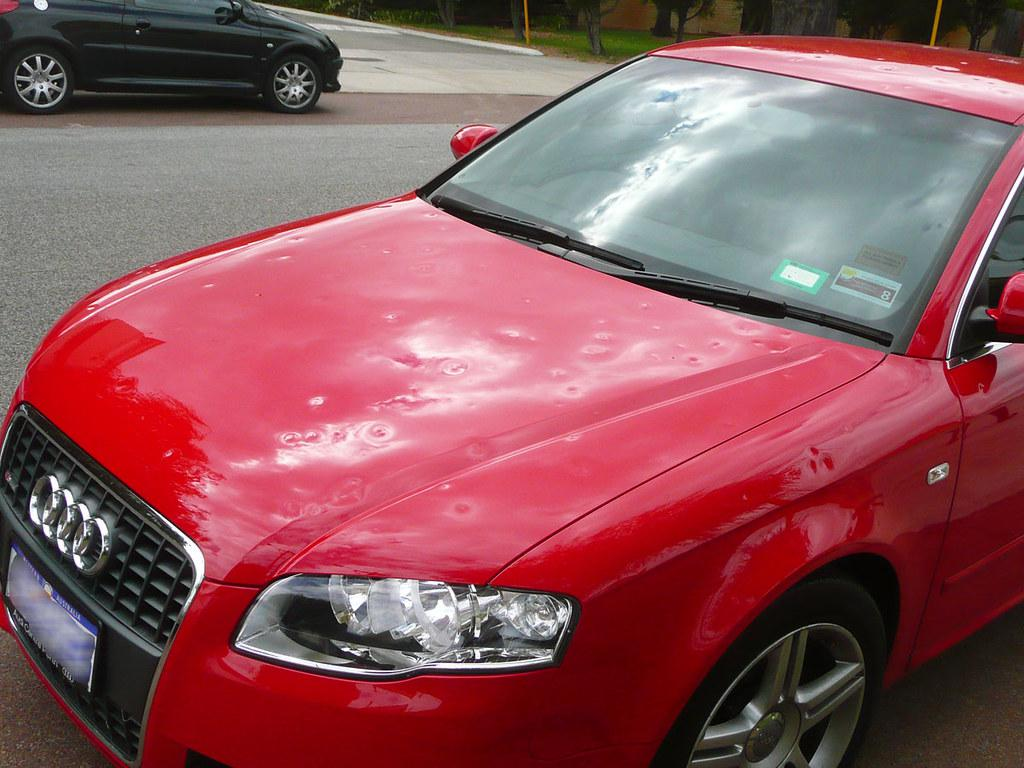bonnet-dent: (45, 270, 756, 562)
fender-dent: (721, 380, 959, 588)
